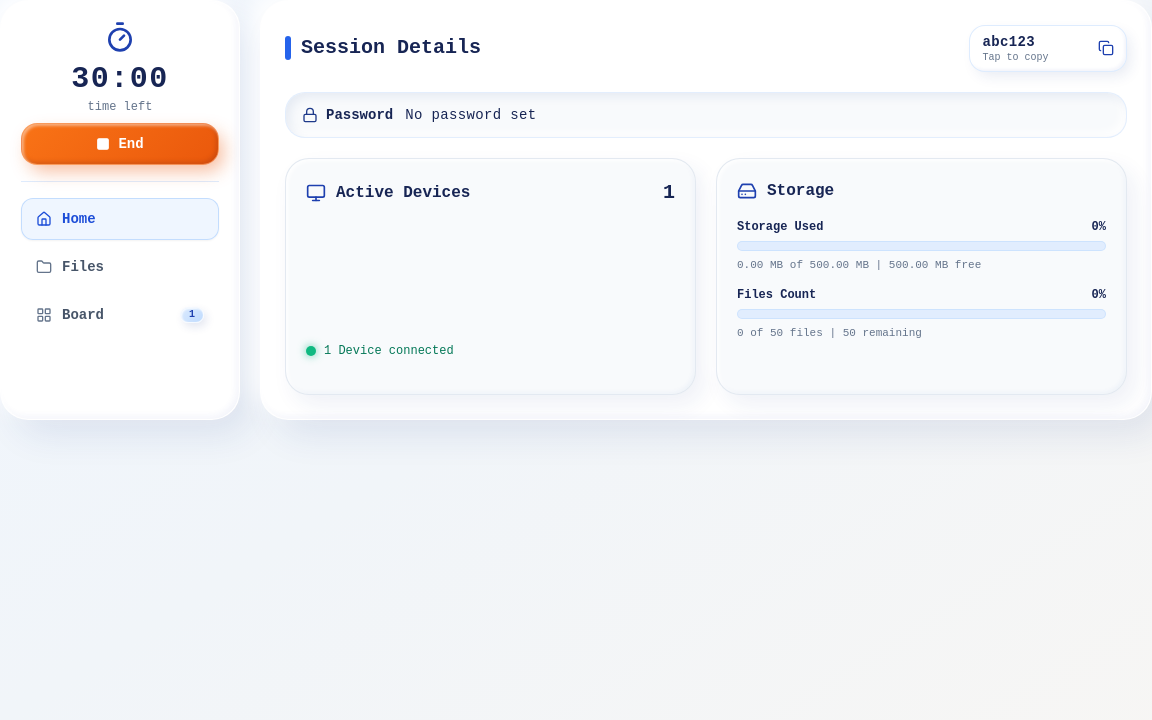
Scenario: Production Hardening, Error Feedback & Accessibility › surfaces deletion and copy errors cleanly inside DriveSessionPage without unhandled rejections
Copy token failure feedback
Click the button with aria-label "Copy session token abc123" at [1048, 48], box top-left (969, 25), bottom-right (1127, 72)
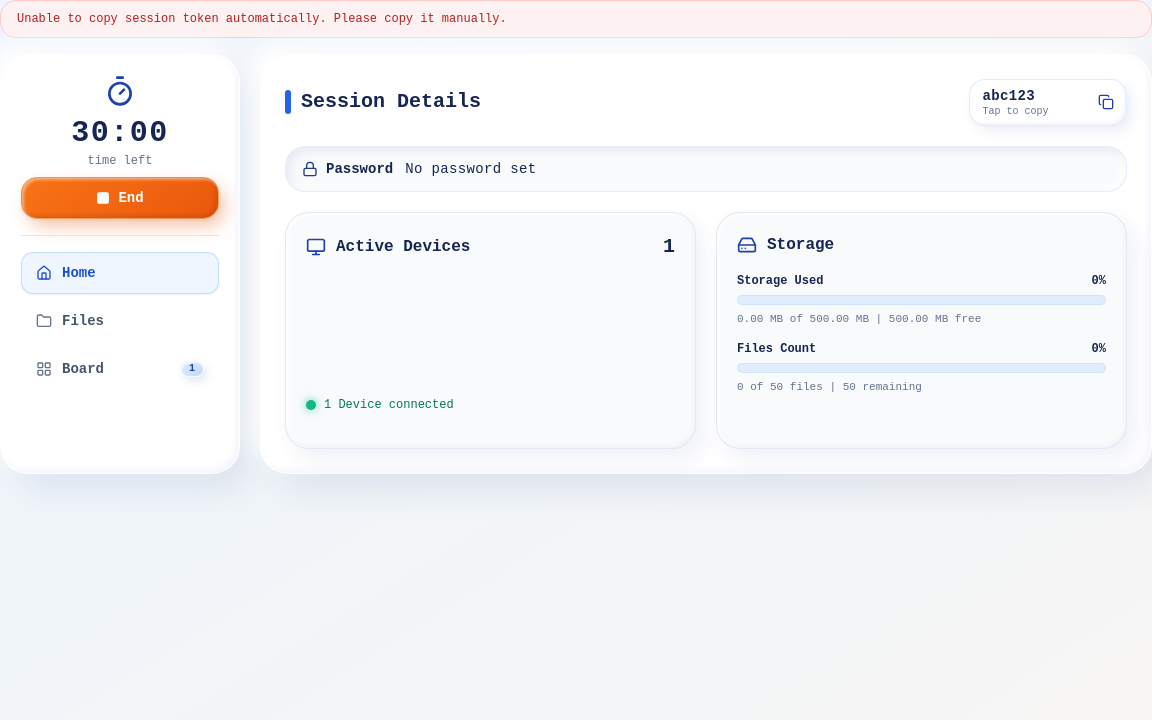
Expected: the text "Unable to copy session token automatically. Please copy it manually." is shown, top-left (0, 0), bottom-right (1151, 38)
Click the tab "Board 1" at [120, 369], box top-left (21, 348), bottom-right (219, 390)
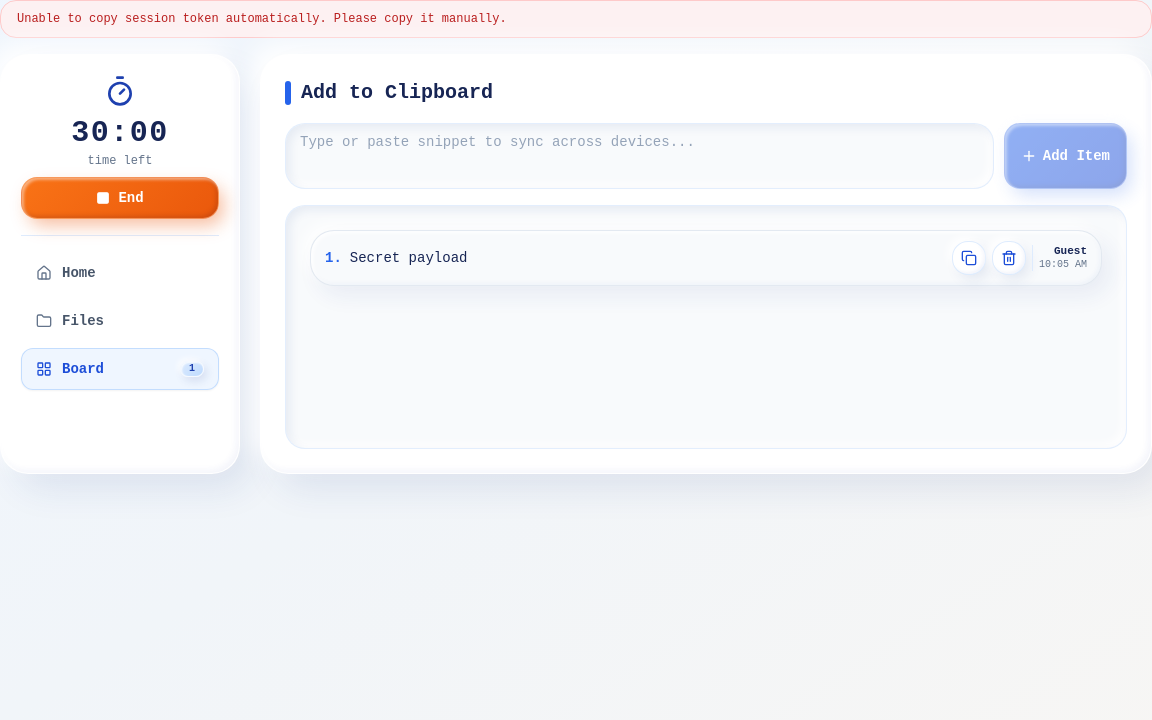
Expected: the heading "Add to Clipboard" is shown, top-left (301, 79), bottom-right (493, 107)
Click the button named "Delete clipboard item" at [1009, 258], box top-left (992, 241), bottom-right (1026, 275)
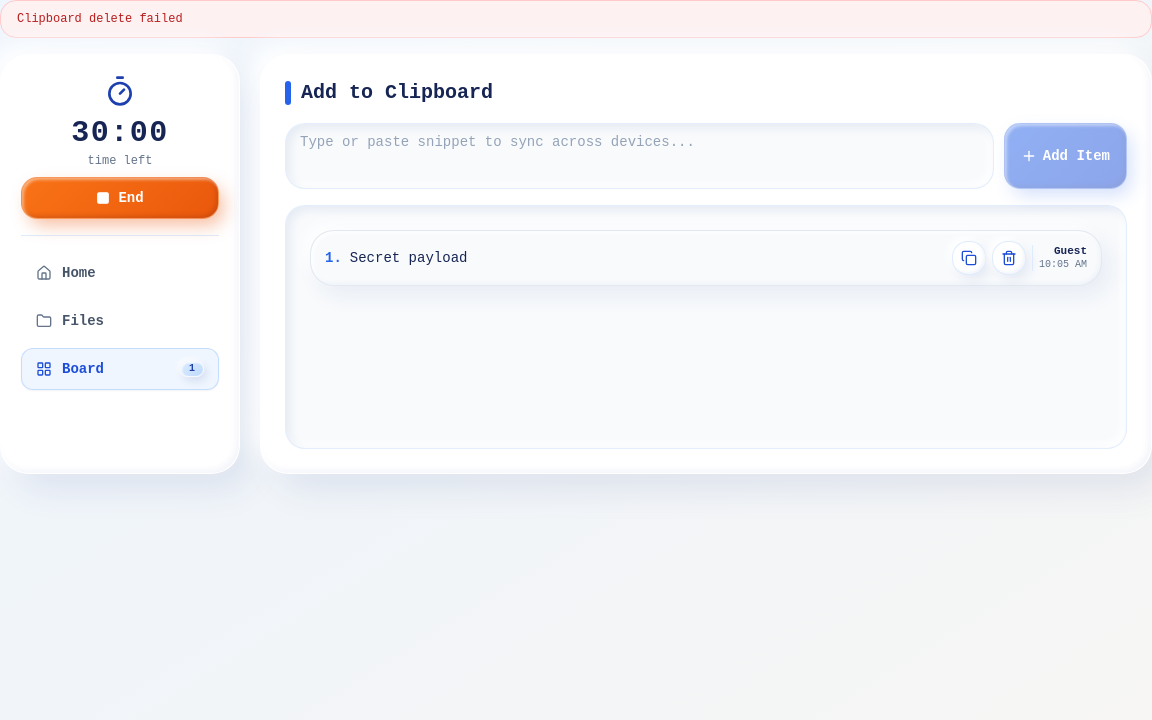
Expected: the text "Clipboard delete failed" is shown, top-left (0, 0), bottom-right (1151, 38)
